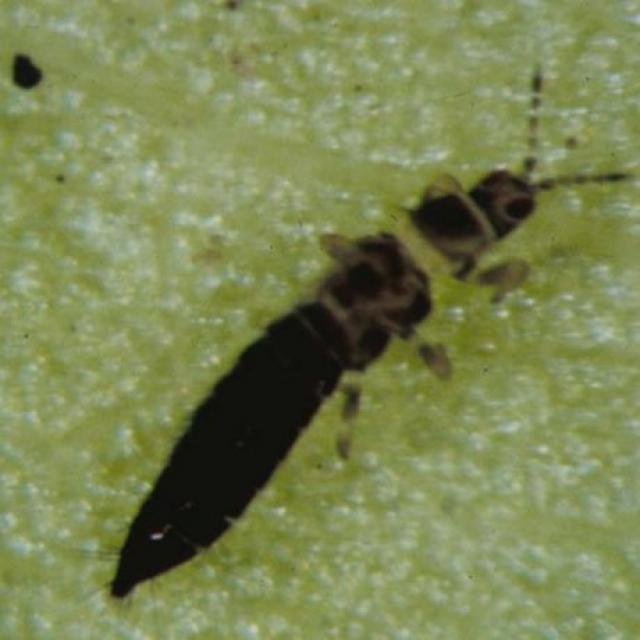Thrip-Adult-: (84, 55, 630, 609)
